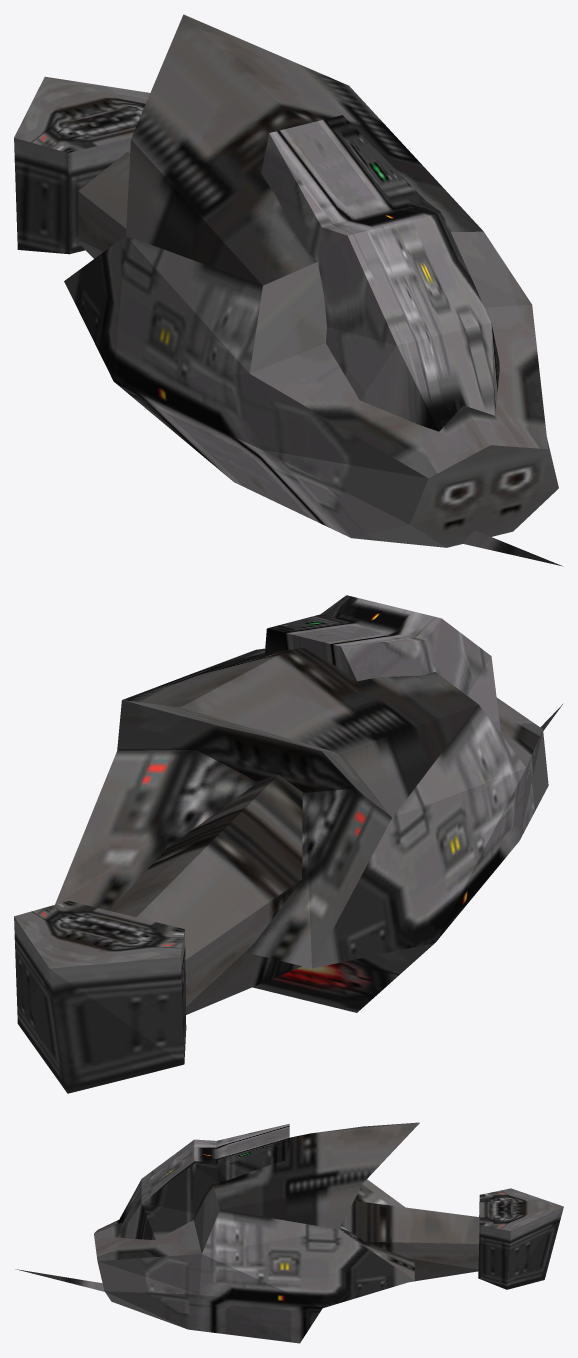
Rendered from swarmer.obj.
The picture shows the model from 3 angles, top to bottom: view 1: azimuth 30°, elevation 25°; view 2: azimuth 150°, elevation 25°; view 3: azimuth 270°, elevation 25°; orthographic projection. The views are drawn at different scales.
Visible parts, largest first — view 1: newpage0, Oswar4, newpage1, Oswar3, Oswar252, Oswar8, Oswar7; view 2: Oswar4, Oswar7, newpage0, Oswar8, newpage1, Oswar9, Oswar3; view 3: newpage0, Oswar4, newpage1, Oswar8, Oswar3, Oswar7.
Part boxes in pixels (x1,y1,x2,y2): newpage0: (64, 235, 557, 547); Oswar4: (78, 14, 483, 285); newpage1: (261, 115, 499, 431); Oswar3: (249, 231, 562, 566); Oswar252: (410, 445, 558, 547); Oswar8: (14, 138, 131, 254); Oswar7: (14, 76, 149, 152); Oswar4: (109, 648, 478, 1014); Oswar7: (14, 700, 391, 968); newpage0: (312, 704, 548, 968); Oswar8: (14, 917, 186, 1093); newpage1: (264, 595, 500, 731); Oswar9: (252, 943, 434, 1012); Oswar3: (496, 697, 563, 767); newpage0: (97, 1209, 414, 1343); Oswar4: (212, 1122, 479, 1281); newpage1: (117, 1123, 289, 1239); Oswar8: (478, 1202, 563, 1289); Oswar3: (15, 1183, 219, 1291); Oswar7: (339, 1179, 563, 1280).
Bounding box in the file's own units: 4.76 × 4.95 × 12.48.
